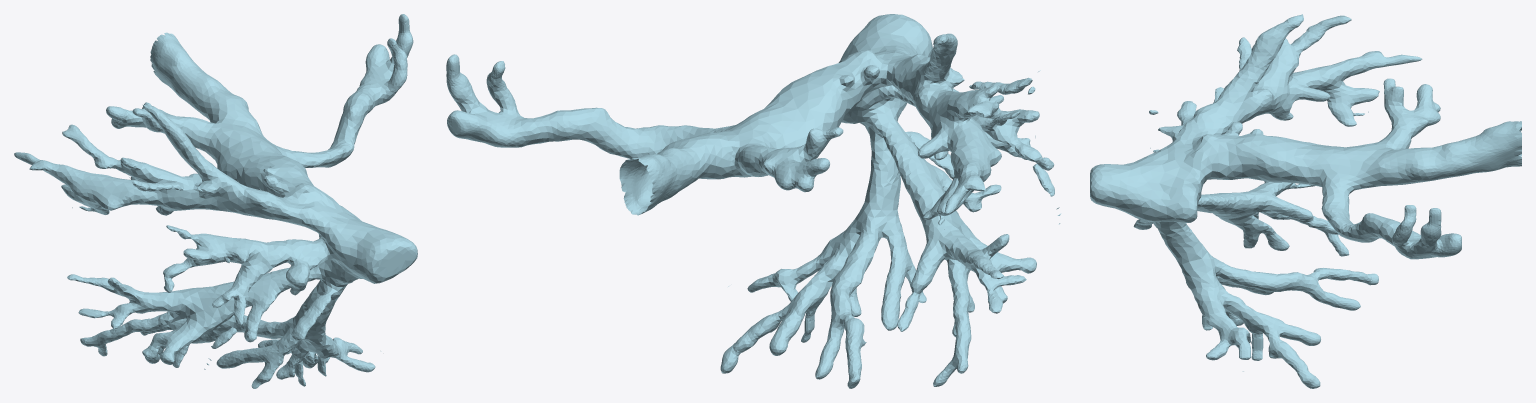
File: venoussystem.obj
3 renders of one model, left to right at view 1: azimuth 30°, elevation 25°; view 2: azimuth 150°, elevation 25°; view 3: azimuth 270°, elevation 25°, orthographic. The views are drawn at different scales.
Parts seen in each view (by area): view 1: grp1; view 2: grp1; view 3: grp1.
Boxes of the visible parts, x1=… form: grp1: x1=14, y1=14, x2=417, y2=388; grp1: x1=446, y1=14, x2=1061, y2=388; grp1: x1=1090, y1=14, x2=1521, y2=388.
Size of the model in its own units: 219 by 157 by 209.
